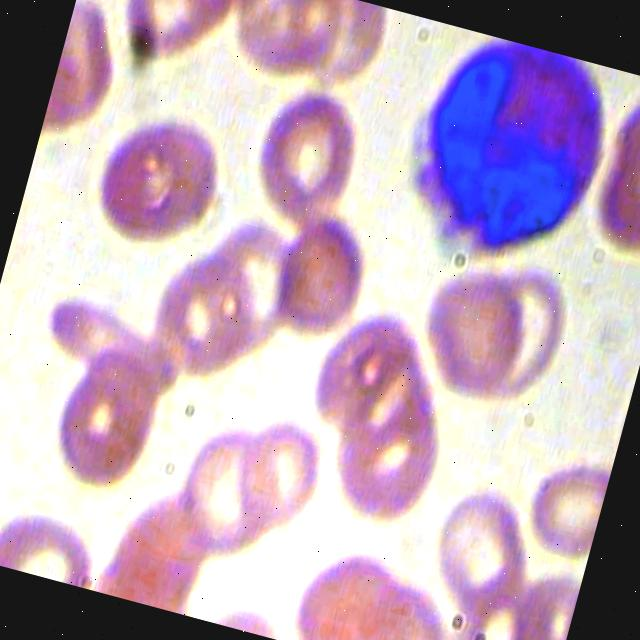RBC: (82, 96, 247, 262), (158, 410, 305, 573), (28, 332, 174, 496), (236, 69, 381, 233), (403, 246, 549, 408), (254, 201, 387, 358), (416, 462, 548, 619), (508, 414, 620, 564), (106, 0, 238, 91)
WBC: (371, 18, 631, 294)
